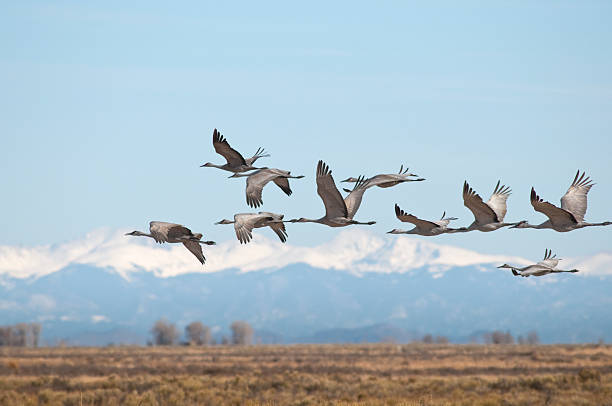Bird: (507, 165, 612, 236), (283, 159, 378, 232), (123, 217, 213, 263), (454, 178, 531, 231), (228, 166, 304, 210), (197, 126, 268, 173), (382, 199, 471, 235), (496, 245, 581, 281), (211, 209, 287, 244), (341, 164, 428, 191)
